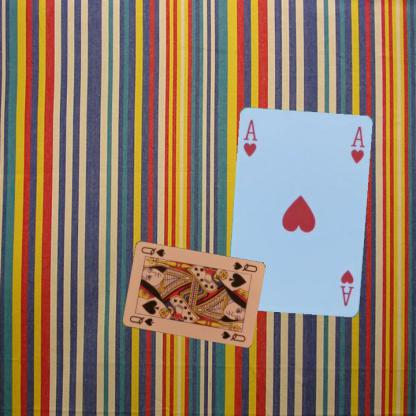Ah: (338, 268, 356, 308), (241, 118, 259, 158)
Qs: (126, 313, 155, 328), (230, 259, 258, 274)
